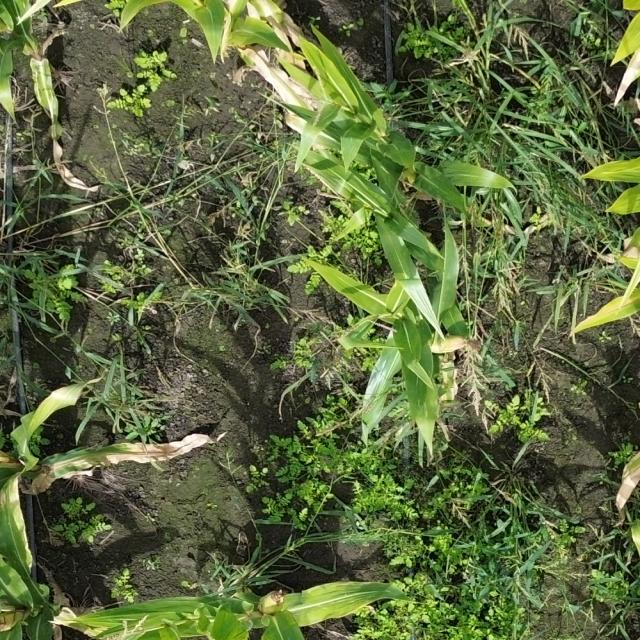gray-leaf-spot: (0, 482, 25, 533), (409, 392, 434, 420)
northern-leaf-blight: (49, 450, 134, 470), (248, 0, 299, 29)
